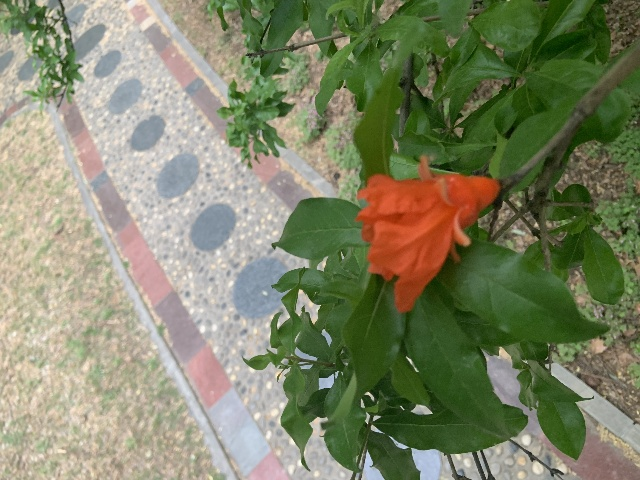flower: (353, 155, 500, 311)
